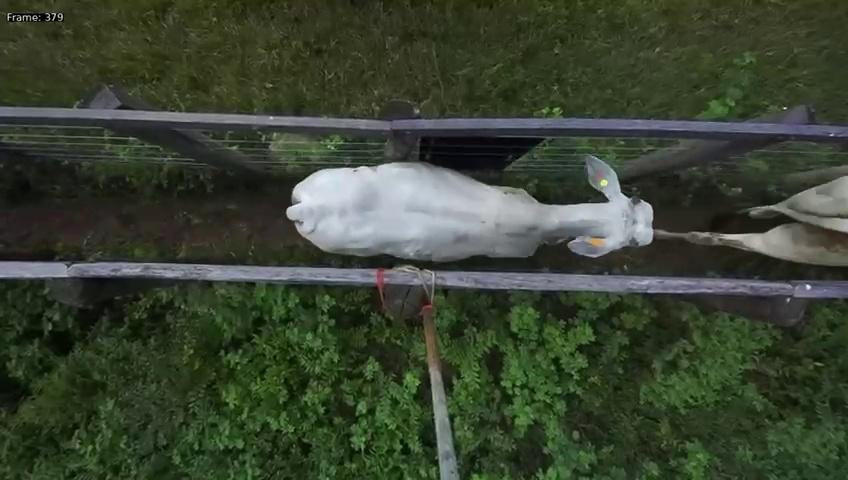cattle: (283, 133, 657, 263)
